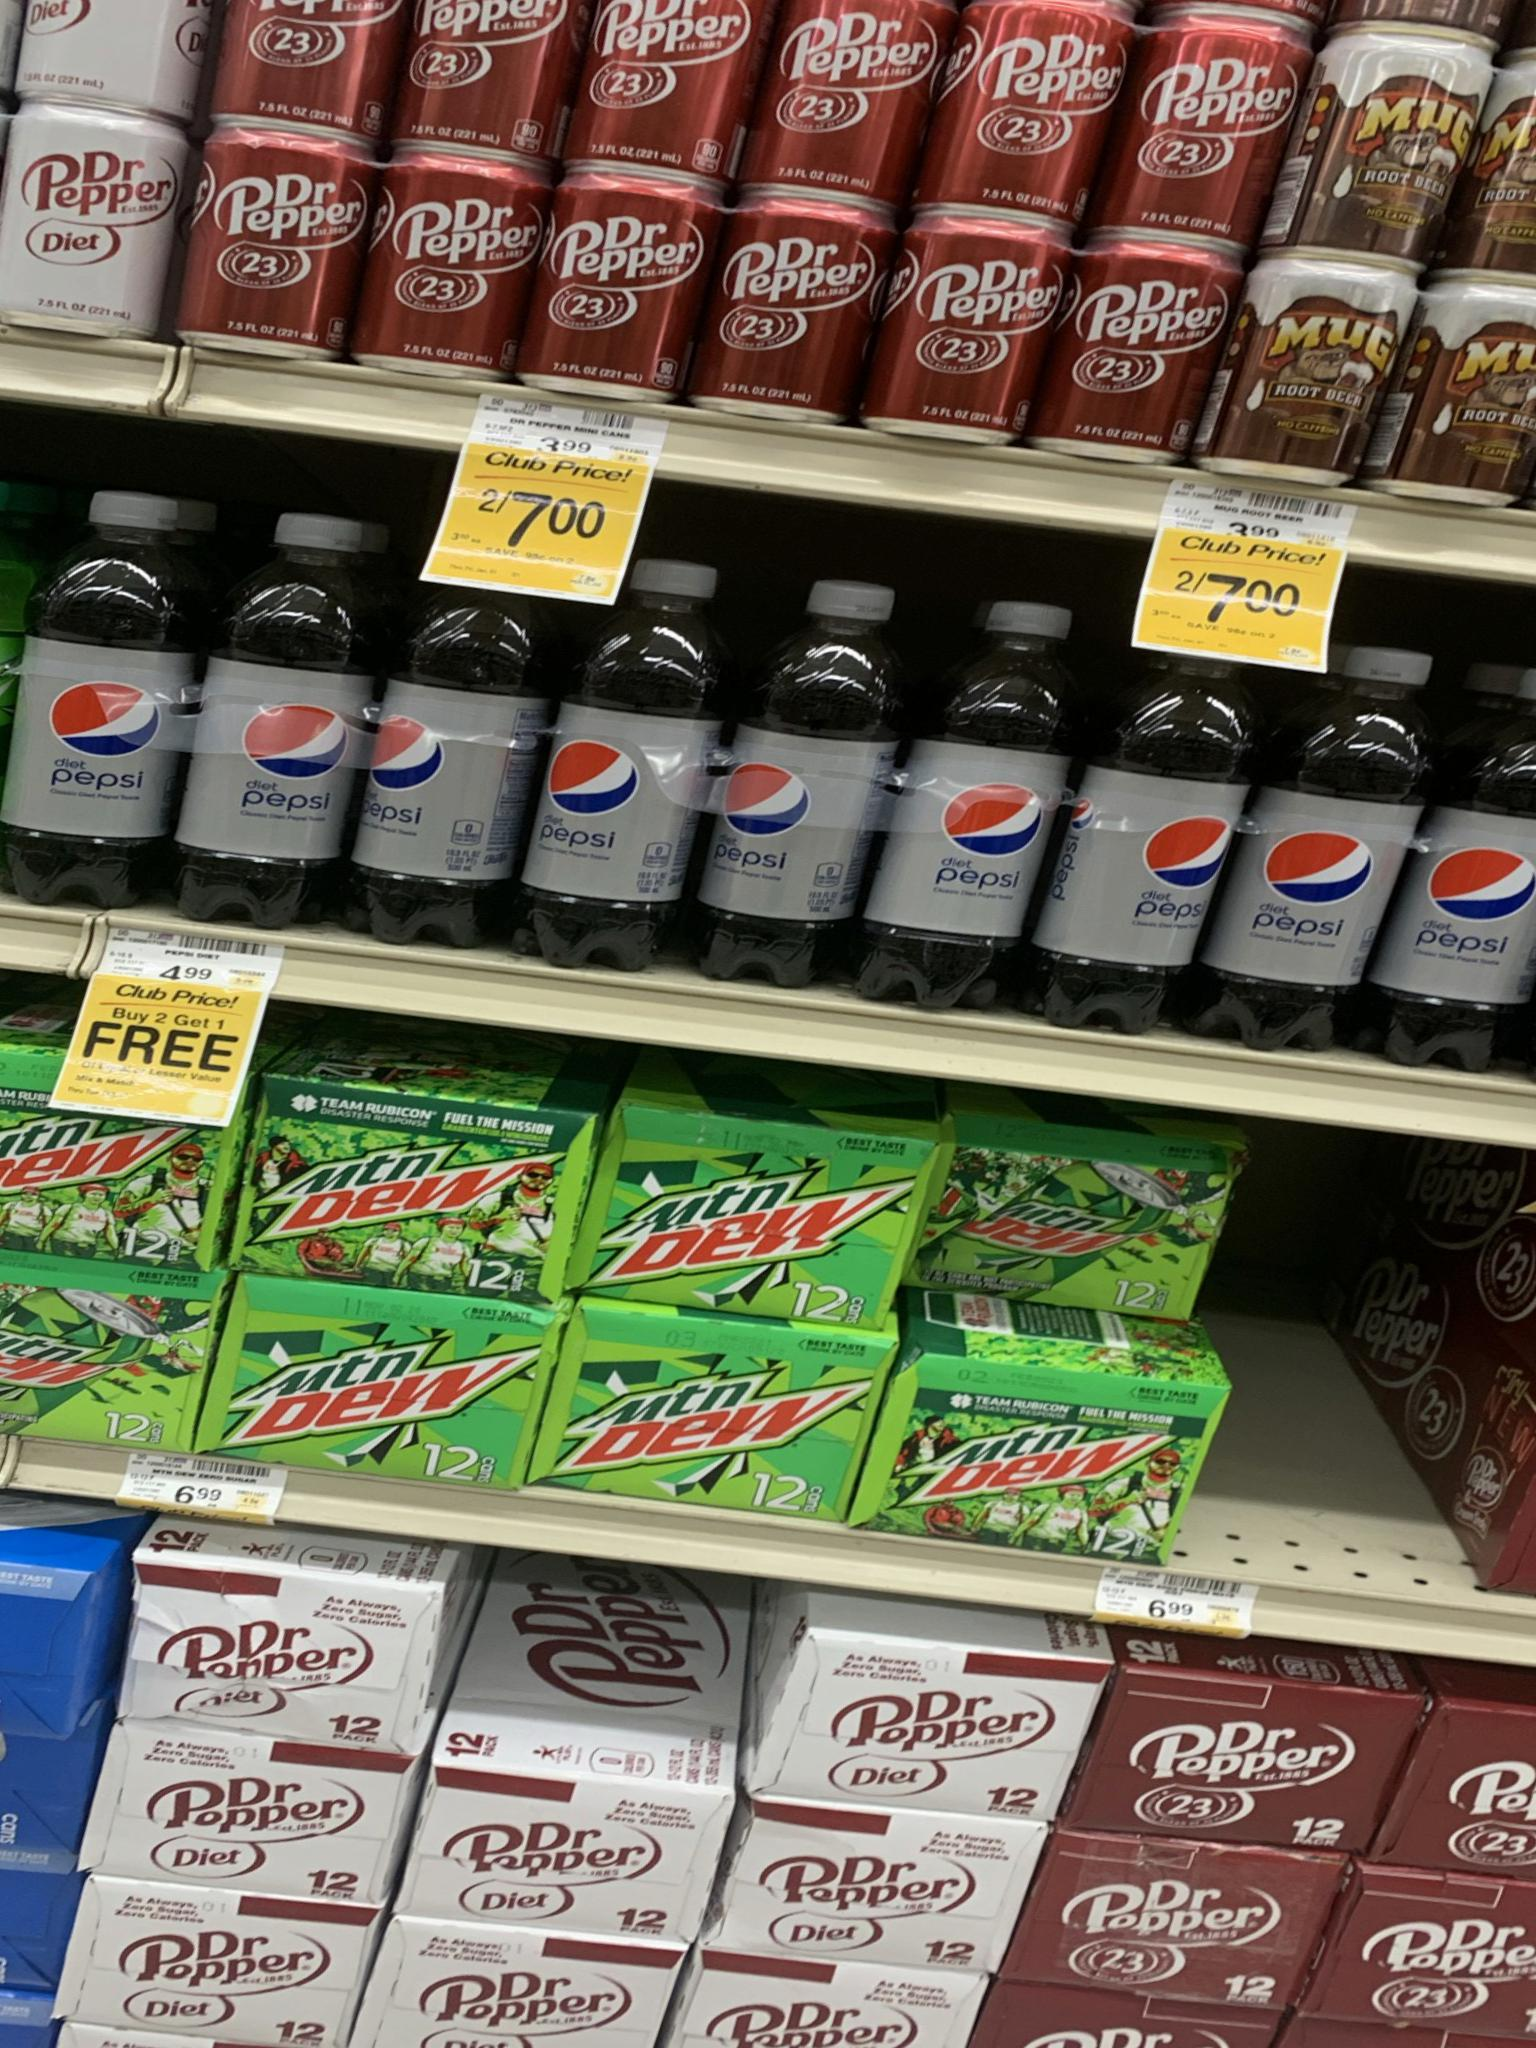soda: (597, 1100, 900, 1347), (248, 1072, 561, 1306), (566, 1290, 852, 1527), (132, 1553, 431, 1758), (247, 1292, 528, 1492), (931, 1359, 1179, 1567), (787, 1632, 1070, 1813), (929, 1151, 1208, 1329), (424, 1763, 694, 1943), (73, 1879, 349, 2045), (753, 1803, 1000, 1983), (1133, 1679, 1376, 1856), (1046, 1838, 1302, 2003), (2, 1077, 239, 1250)
